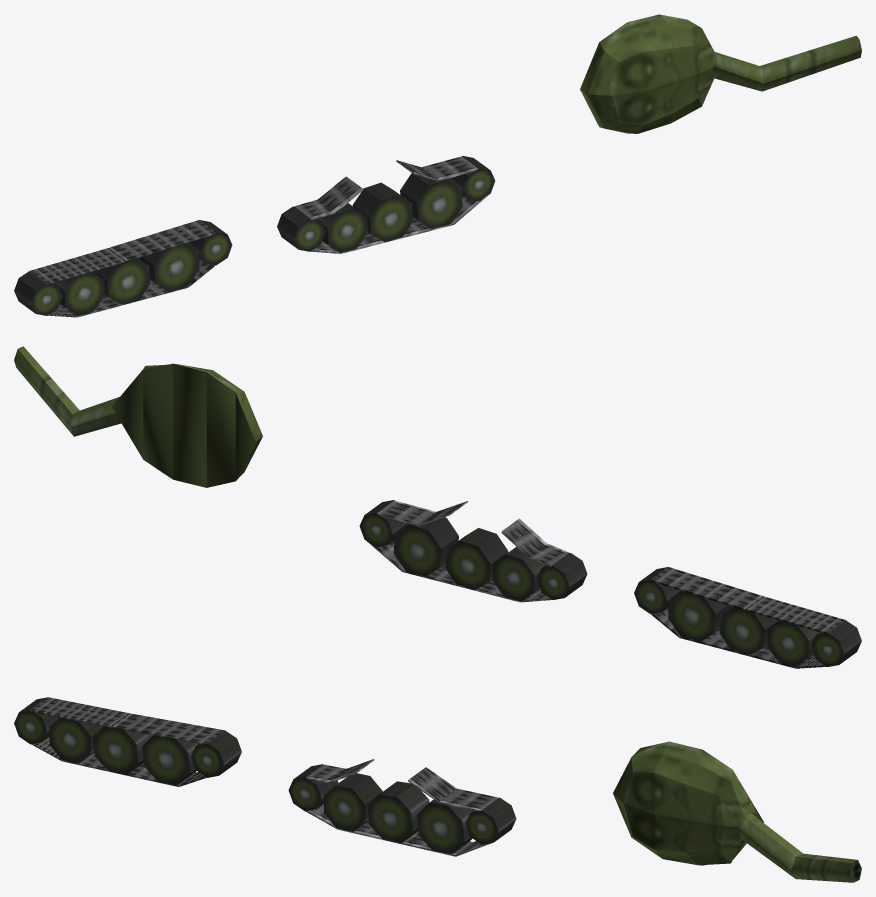
The model's file is GarbageTank_3items.fbx.
3 views of the same model, one above another, from view 1: azimuth 30°, elevation 25°; view 2: azimuth 150°, elevation 25°; view 3: azimuth 330°, elevation 25° (orthographic). The views are drawn at different scales.
Parts seen in each view (by area): view 1: TANK_TUREET1, TANK_TRACK2, TANK_TRACK1; view 2: TANK_TUREET1, TANK_TRACK2, TANK_TRACK1; view 3: TANK_TUREET1, TANK_TRACK2, TANK_TRACK1.
Part boxes in pixels (bbox=[...]): TANK_TUREET1: bbox=[580, 14, 861, 133]; TANK_TRACK2: bbox=[277, 156, 495, 253]; TANK_TRACK1: bbox=[14, 220, 232, 317]; TANK_TUREET1: bbox=[14, 346, 262, 487]; TANK_TRACK2: bbox=[359, 500, 587, 602]; TANK_TRACK1: bbox=[634, 567, 861, 668]; TANK_TUREET1: bbox=[613, 741, 861, 882]; TANK_TRACK2: bbox=[288, 759, 516, 856]; TANK_TRACK1: bbox=[14, 697, 241, 786].
Size of what is drawn, in the model's own units: 131 by 22.45 by 8.94.
